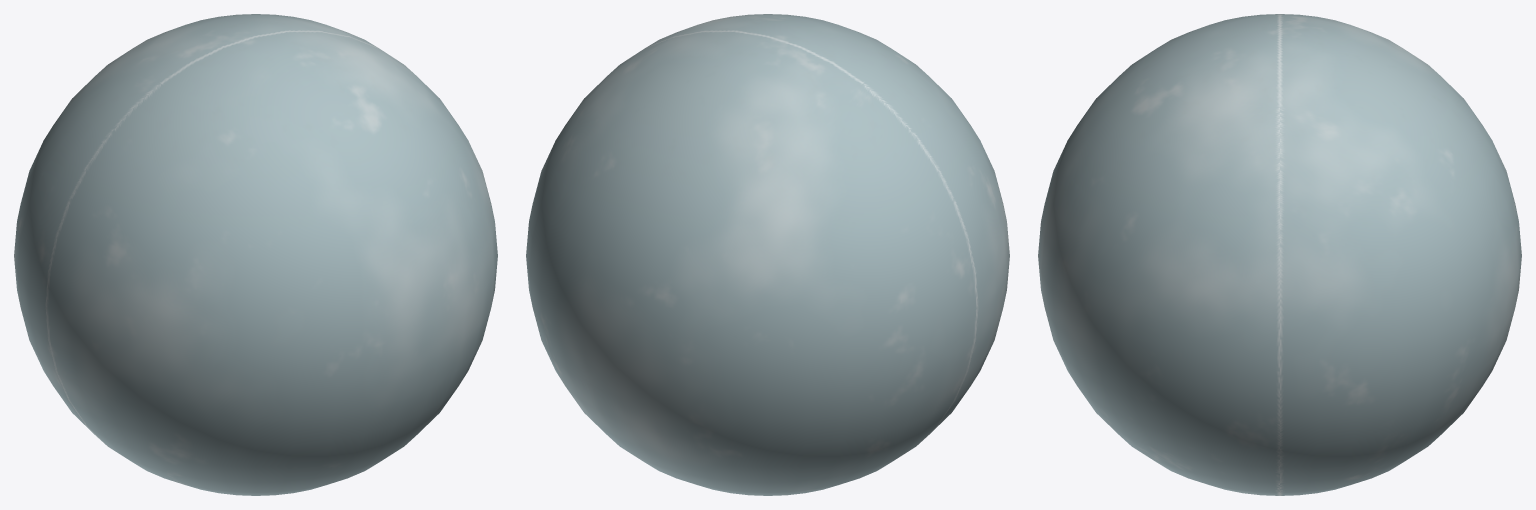
File: GelBeadBall.fbx
3 views of the same model, side by side, from view 1: azimuth 30°, elevation 25°; view 2: azimuth 150°, elevation 25°; view 3: azimuth 270°, elevation 25° (orthographic).
Visible parts, largest first — view 1: GelBeadBall_Body; view 2: GelBeadBall_Body; view 3: GelBeadBall_Body.
Part boxes in pixels (<box>): GelBeadBall_Body: <box>14,14,497,495</box>; GelBeadBall_Body: <box>526,14,1009,495</box>; GelBeadBall_Body: <box>1038,14,1521,495</box>.
Bounding box in the file's own units: 0.2598 × 0.2525 × 0.2598.
2 materials, 2 textured.
